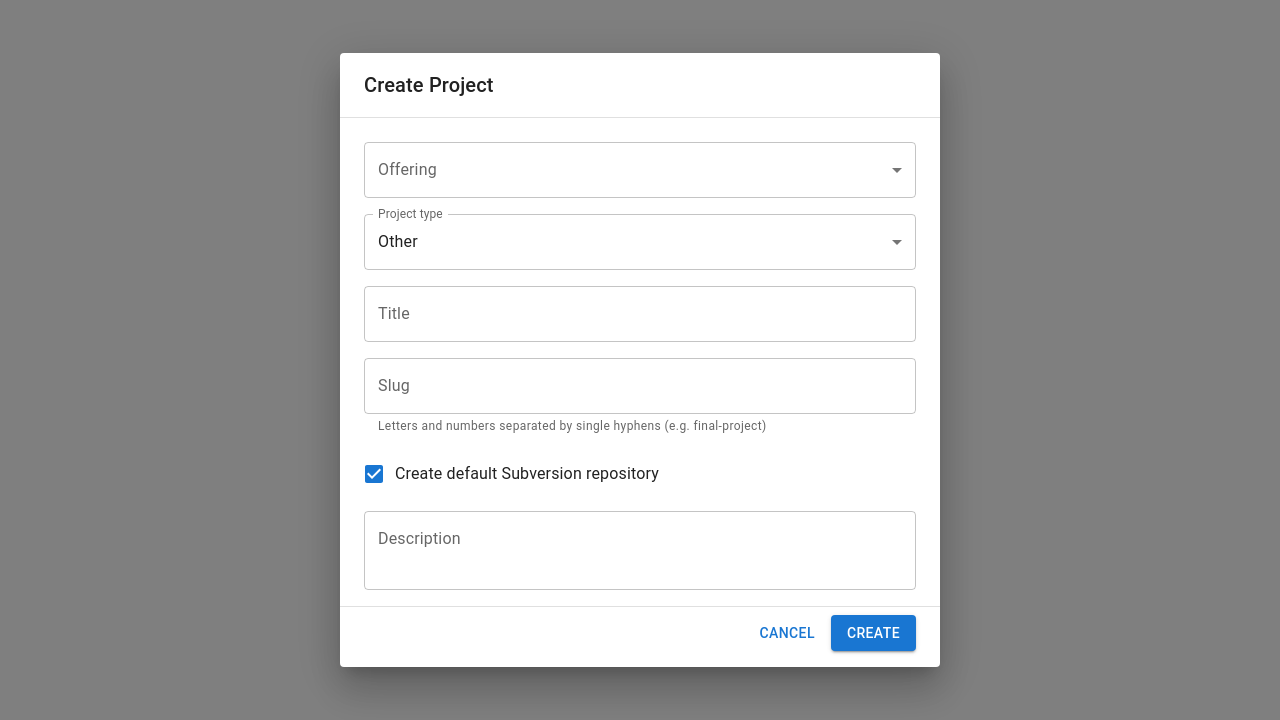
Scenario: ProjectForm › requires a repository URL when the checkbox is unchecked
Click the checkbox labelled "Create default Subversion repository" at (510, 474), box [362,462,659,486]
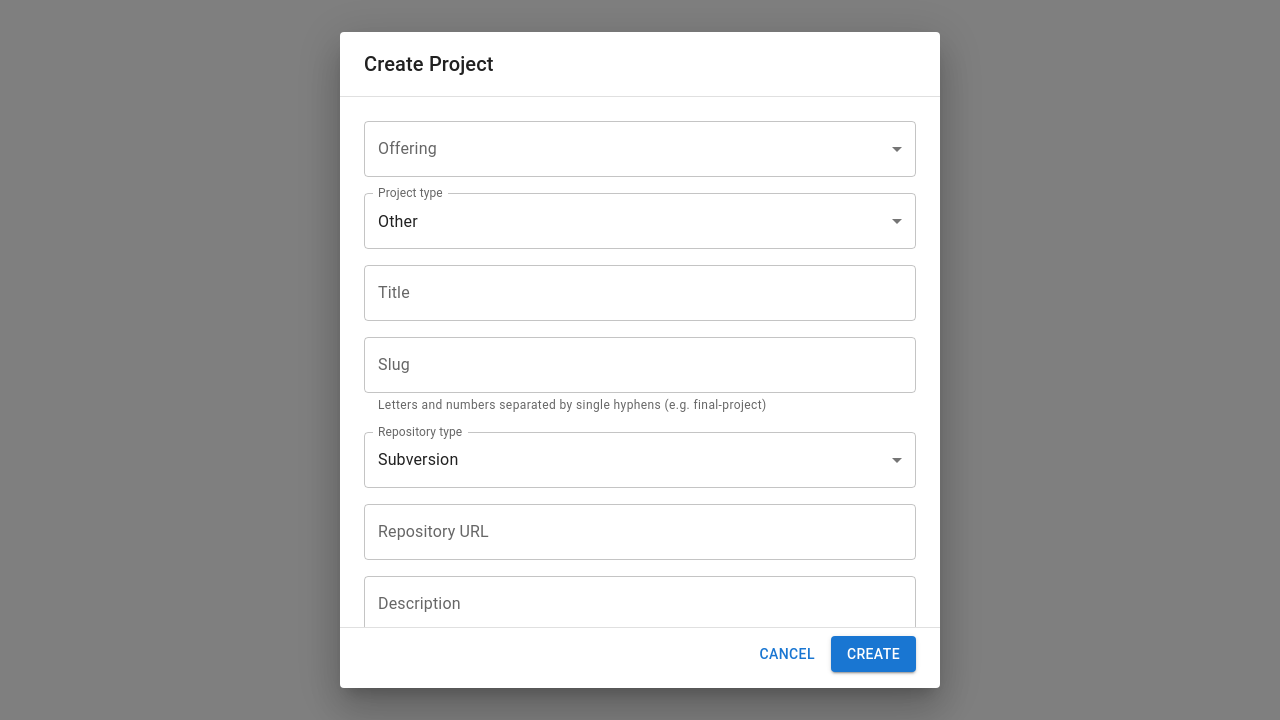
Click the dropdown named "Offering" at (640, 149), box [364,121,916,177]
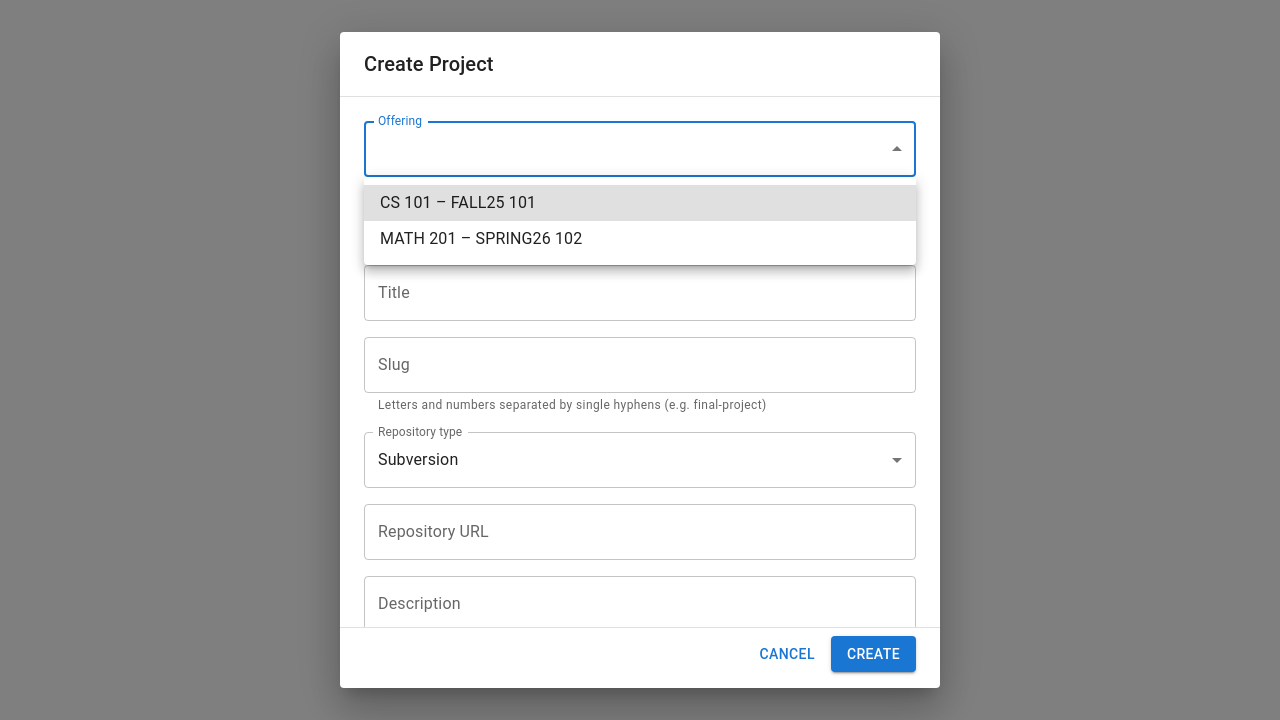
Click the option "CS 101 – FALL25 101" at (458, 202), box [364,185,916,221]
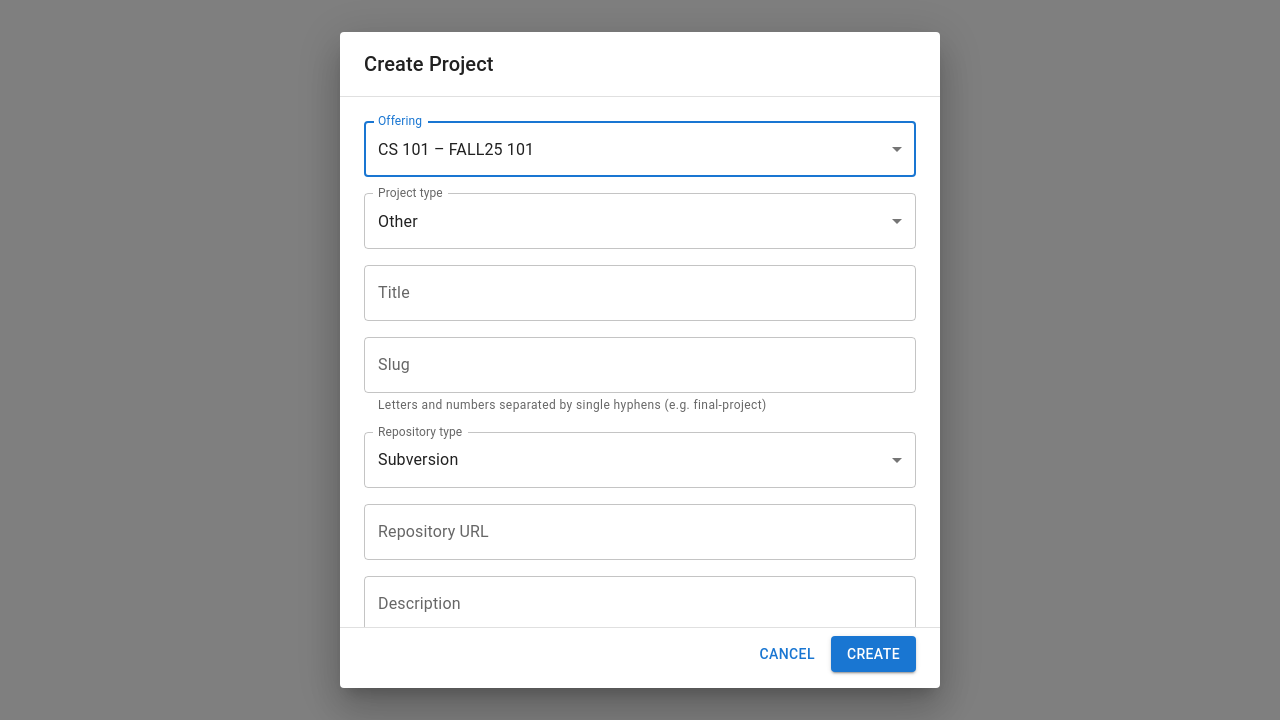
Type "Final Project" into the field labelled "Title" at (640, 293), box [364,265,916,321]
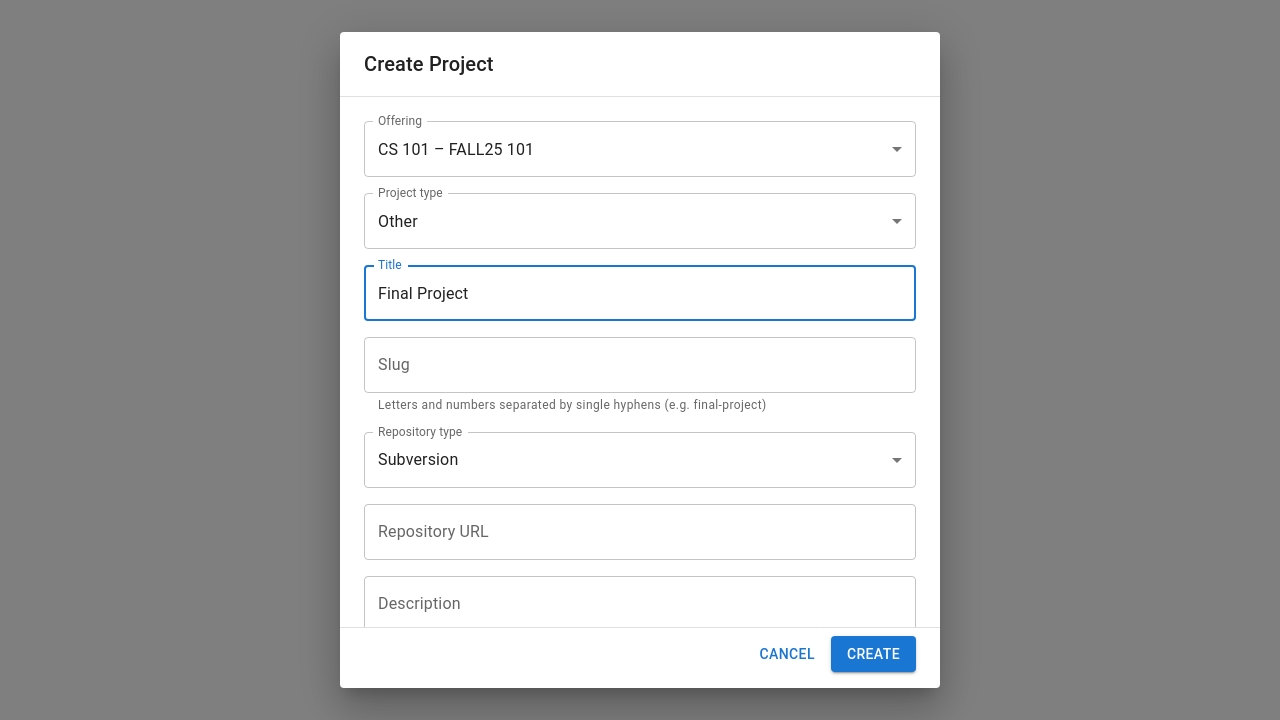
Type "final-project" into the field labelled "Slug" at (640, 365), box [364,337,916,393]
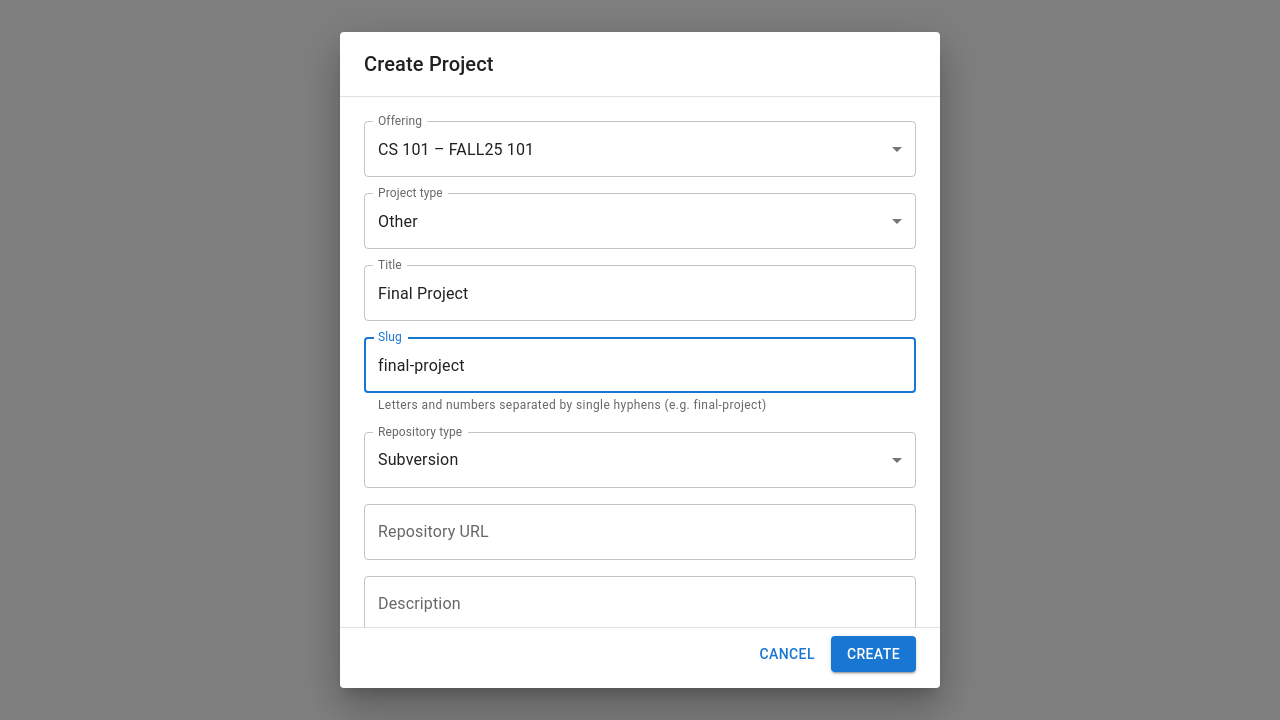
Click the button "Create" at (873, 654), box [831,636,916,672]
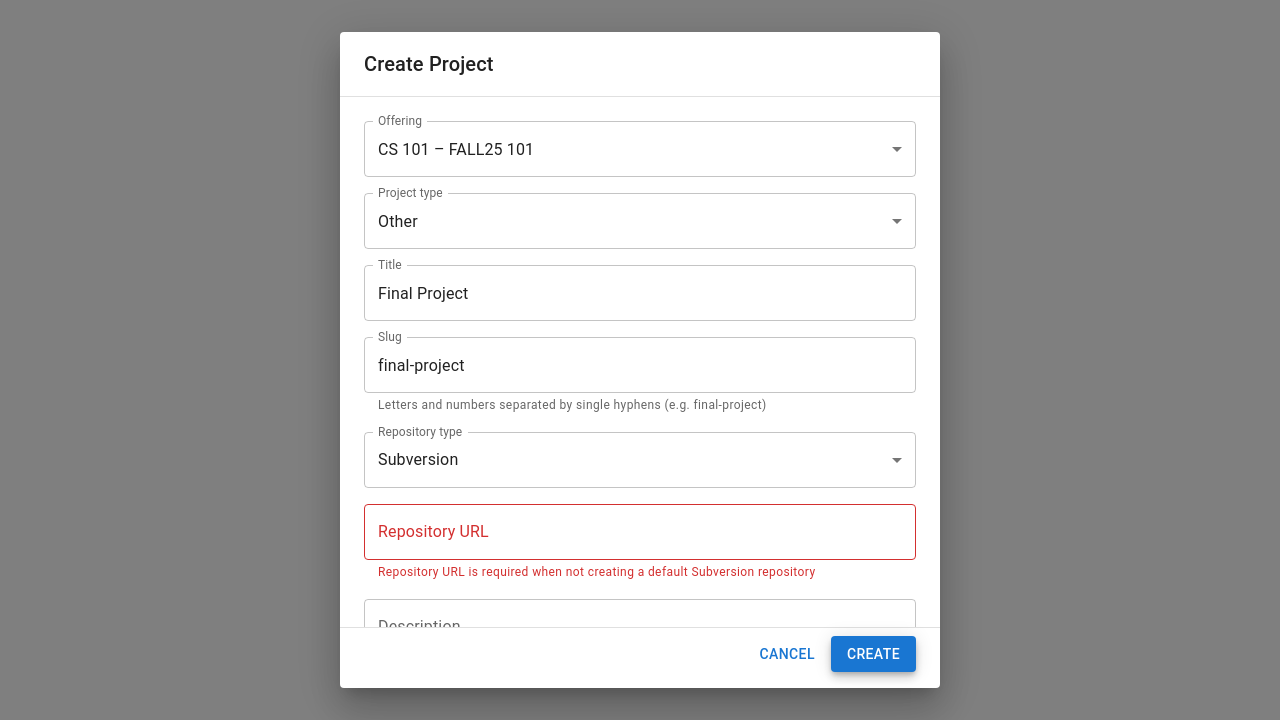
Expected: the text "Repository URL is required" is shown, [378,565,816,579]
